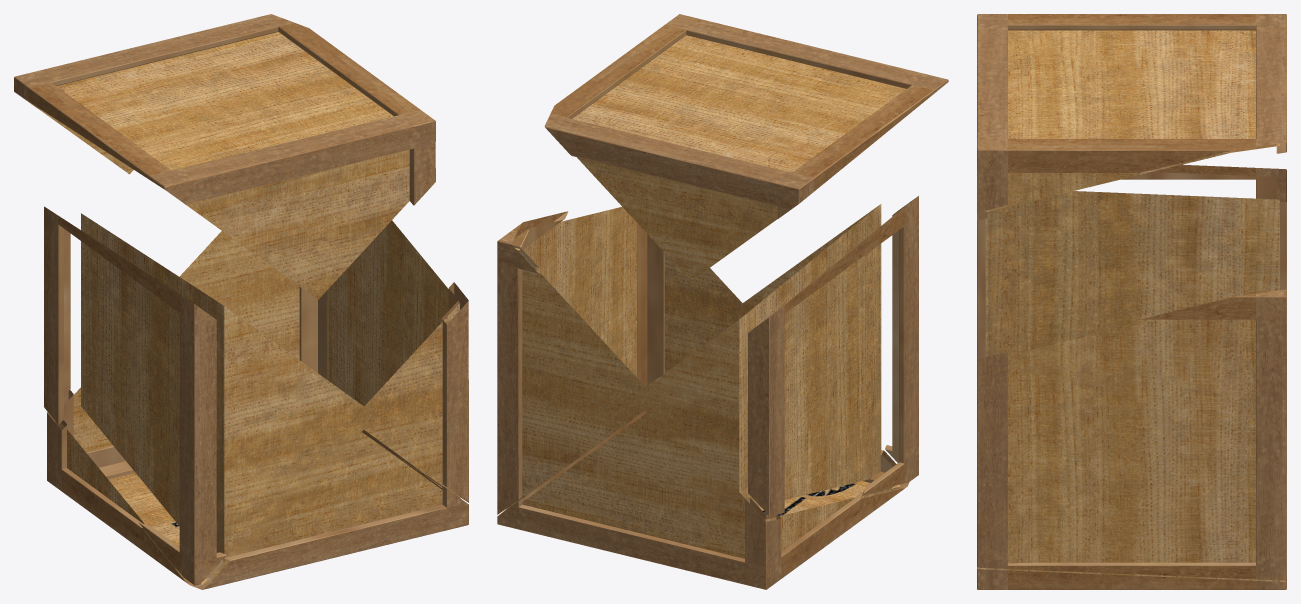
Rendered from BrokenCrate.fbx.
3 views of the same model, side by side, from view 1: azimuth 30°, elevation 25°; view 2: azimuth 150°, elevation 25°; view 3: azimuth 270°, elevation 25° (orthographic). The views are drawn at different scales.
Parts seen in each view (by area): view 1: 12279_Container_v1_l1.003, 12279_Container_v1_l1.001, 12279_Container_v1_l1.002, 12279_Container_v1_l1.005, 12279_Container_v1_l1.007, 12279_Container_v1_l1, 12279_Container_v1_l1.004, 12279_Container_v1_l1.006; view 2: 12279_Container_v1_l1.003, 12279_Container_v1_l1.001, 12279_Container_v1_l1.002, 12279_Container_v1_l1.005, 12279_Container_v1_l1, 12279_Container_v1_l1.007, 12279_Container_v1_l1.004, 12279_Container_v1_l1.006; view 3: 12279_Container_v1_l1.002, 12279_Container_v1_l1.003, 12279_Container_v1_l1.001, 12279_Container_v1_l1.005, 12279_Container_v1_l1.006, 12279_Container_v1_l1.004, 12279_Container_v1_l1.007, 12279_Container_v1_l1.
Boxes of the visible parts, x1,y1,x2,y2 form: 12279_Container_v1_l1.003: (81, 213, 376, 566); 12279_Container_v1_l1.001: (22, 32, 409, 299); 12279_Container_v1_l1.002: (179, 220, 459, 497); 12279_Container_v1_l1.005: (14, 14, 435, 205); 12279_Container_v1_l1.007: (44, 206, 226, 585); 12279_Container_v1_l1: (55, 387, 442, 584); 12279_Container_v1_l1.004: (47, 390, 468, 589); 12279_Container_v1_l1.006: (299, 282, 468, 502); 12279_Container_v1_l1.003: (633, 204, 881, 510); 12279_Container_v1_l1.001: (572, 35, 906, 280); 12279_Container_v1_l1.002: (505, 207, 749, 509); 12279_Container_v1_l1.005: (544, 14, 948, 218); 12279_Container_v1_l1: (522, 405, 900, 558); 12279_Container_v1_l1.007: (748, 196, 918, 516); 12279_Container_v1_l1.004: (497, 410, 909, 589); 12279_Container_v1_l1.006: (497, 211, 664, 514); 12279_Container_v1_l1.002: (1008, 319, 1255, 563); 12279_Container_v1_l1.003: (985, 191, 1279, 356); 12279_Container_v1_l1.001: (985, 30, 1279, 212); 12279_Container_v1_l1.005: (977, 14, 1286, 220); 12279_Container_v1_l1.006: (977, 289, 1286, 580); 12279_Container_v1_l1.004: (977, 567, 1286, 589); 12279_Container_v1_l1.007: (977, 164, 1286, 360); 12279_Container_v1_l1: (985, 568, 1279, 581).
Size of the model in its own units: 4591 by 5941 by 3936.
